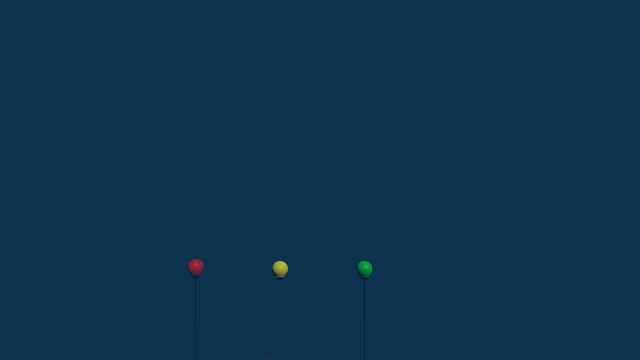buoy_green: (355, 257, 373, 282)
buoy_red: (186, 258, 203, 277)
